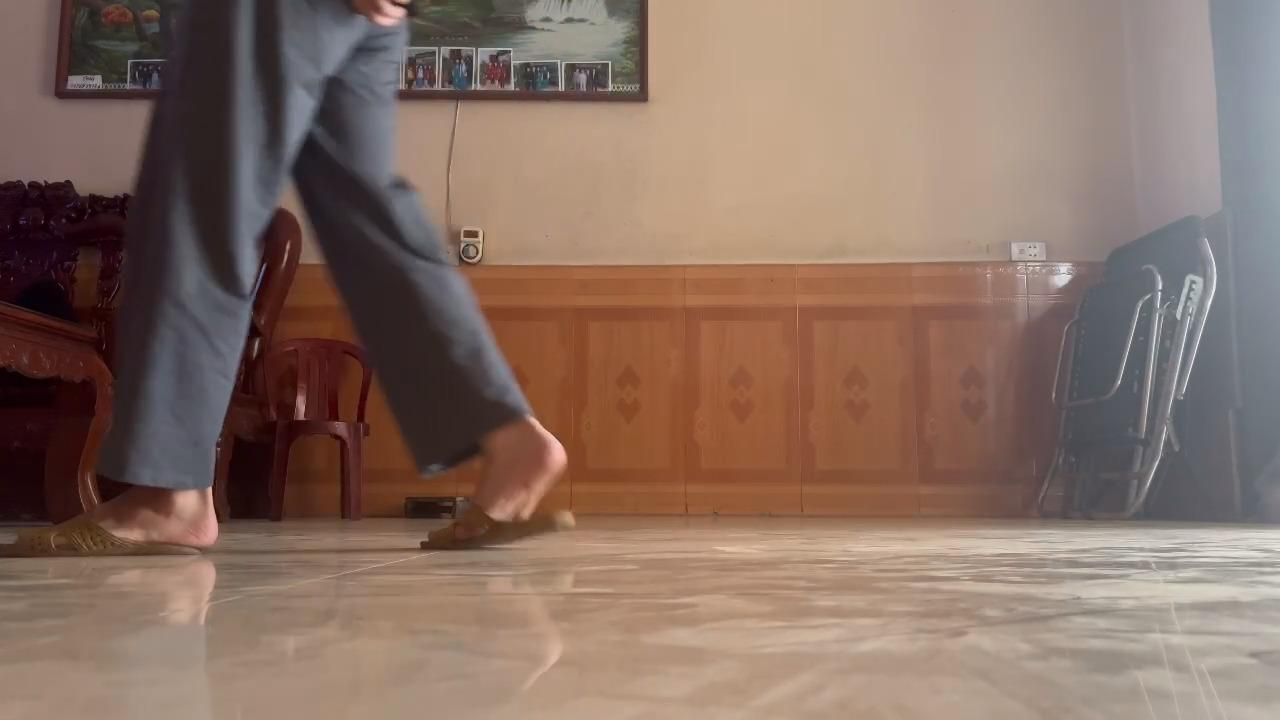no-boot: (402, 417, 593, 560), (0, 492, 237, 573)
